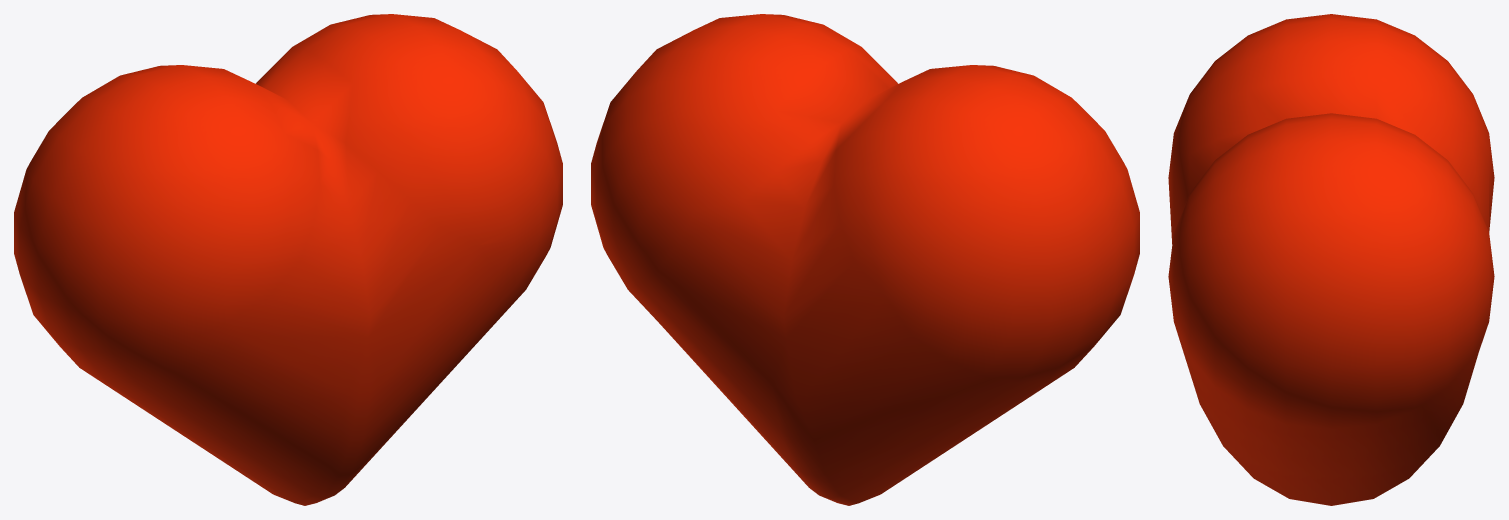
The model's file is Heart.fbx.
3 views of the same model, side by side, from view 1: azimuth 30°, elevation 25°; view 2: azimuth 150°, elevation 25°; view 3: azimuth 270°, elevation 25° (orthographic). The views are drawn at different scales.
Visible parts, largest first — view 1: Collectible_Heart_01; view 2: Collectible_Heart_01; view 3: Collectible_Heart_01.
Part boxes in pixels (x1=…): Collectible_Heart_01: x1=14, y1=14, x2=562, y2=505; Collectible_Heart_01: x1=591, y1=14, x2=1139, y2=505; Collectible_Heart_01: x1=1168, y1=14, x2=1494, y2=505.
Bounding box in the file's own units: 98.55 × 82.66 × 57.77.
Materials: 1 (1 with a texture image).
